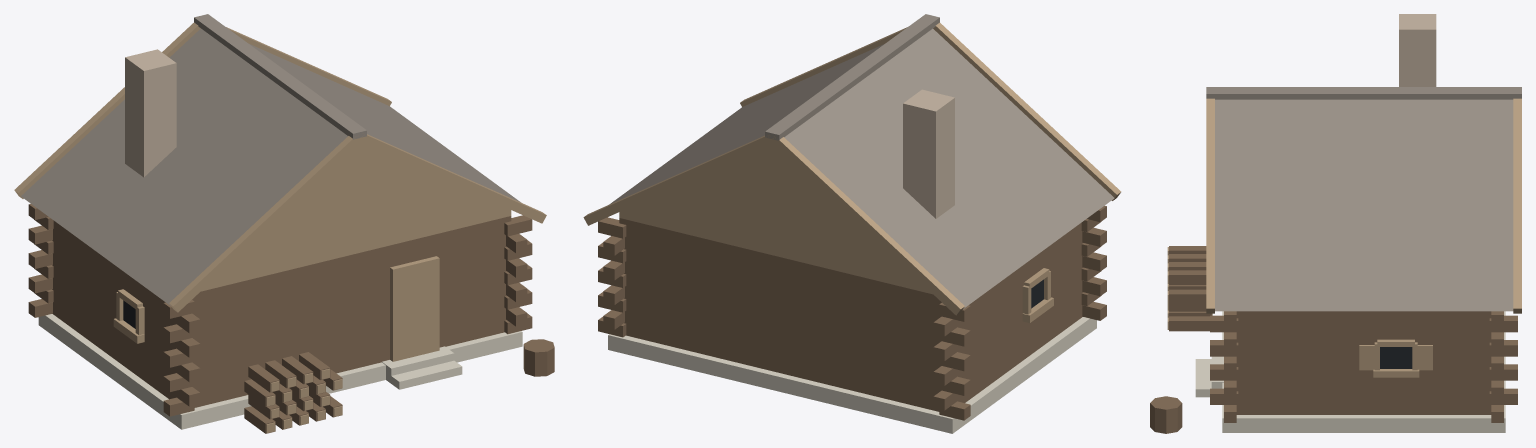
The model's file is smithy_hut.glb.
3 renders of one model, left to right at view 1: azimuth 30°, elevation 25°; view 2: azimuth 150°, elevation 25°; view 3: azimuth 270°, elevation 25°, orthographic.
Parts seen in each view (by area): view 1: SmithyHut; view 2: SmithyHut; view 3: SmithyHut.
Part boxes in pixels (x1,y1,x2,y2): SmithyHut: (14,14,554,433); SmithyHut: (583,14,1121,433); SmithyHut: (1150,14,1521,433).
Bounding box in the file's own units: 8 × 5.75 × 6.95.
